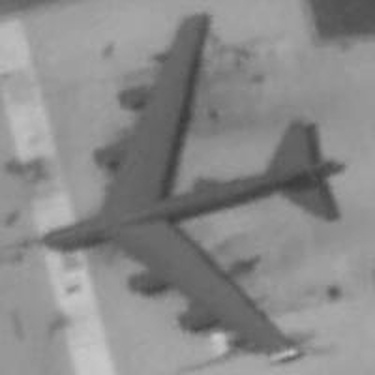airplane: (19, 8, 347, 367)
